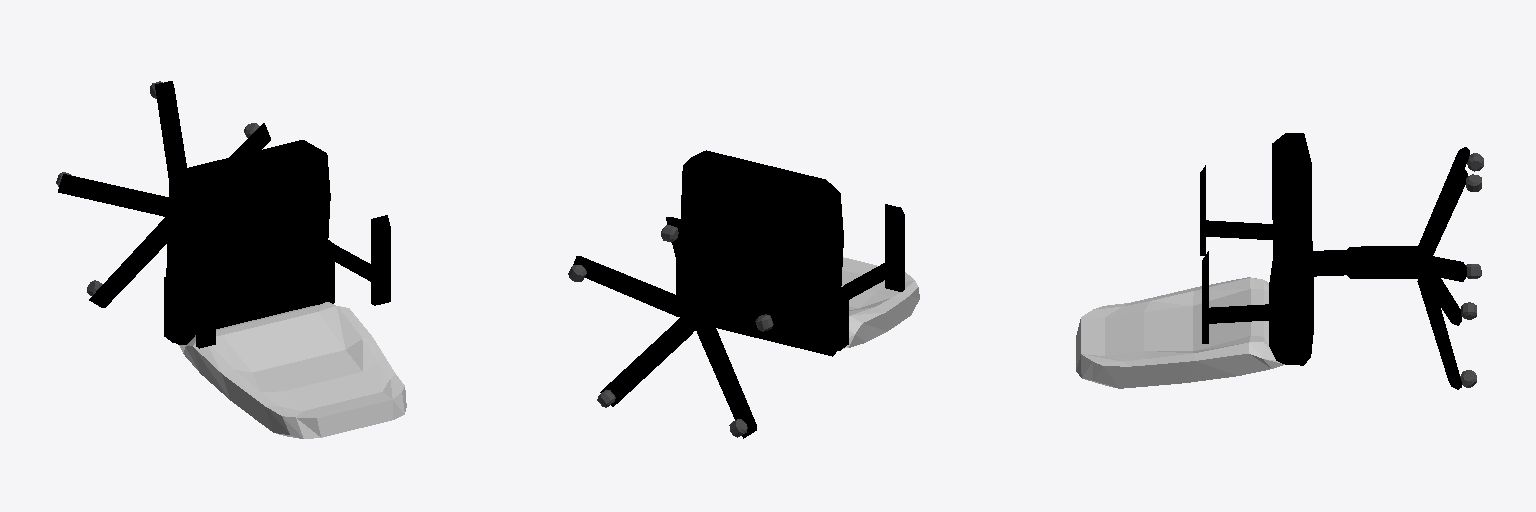
Rendered from MaxSpeedThrone 1.obj.
3 renders of one model, left to right at view 1: azimuth 30°, elevation 25°; view 2: azimuth 150°, elevation 25°; view 3: azimuth 270°, elevation 25°, orthographic.
Parts seen in each view (by area): view 1: Seat_Cube.002, ChairBack_Cube.004, LeftArmChair_Cube.001, RightArmChair_Cube.003, Leg5_Cylinder.002, Leg4_Cylinder.004, Leg1_Cylinder.001, Leg2_Cylinder.005; view 2: Seat_Cube.002, ChairBack_Cube.004, LeftArmChair_Cube.001, Leg2_Cylinder.005, Leg3_Cylinder.003, Leg4_Cylinder.004, Leg1_Cylinder.001, Leg5_Cylinder.002; view 3: ChairBack_Cube.004, Seat_Cube.002, RightArmChair_Cube.003, LeftArmChair_Cube.001, Leg3_Cylinder.003, Leg1_Cylinder.001, Leg2_Cylinder.005, Leg4_Cylinder.004.
Part boxes in pixels (bbox=[...]): Seat_Cube.002: bbox=[166, 140, 330, 344]; ChairBack_Cube.004: bbox=[179, 302, 406, 438]; LeftArmChair_Cube.001: bbox=[164, 258, 215, 348]; RightArmChair_Cube.003: bbox=[327, 215, 390, 305]; Leg5_Cylinder.002: bbox=[58, 174, 168, 216]; Leg4_Cylinder.004: bbox=[89, 217, 167, 307]; Leg1_Cylinder.001: bbox=[155, 81, 186, 182]; Leg2_Cylinder.005: bbox=[229, 123, 270, 157]; Seat_Cube.002: bbox=[679, 150, 843, 356]; ChairBack_Cube.004: bbox=[841, 257, 919, 348]; LeftArmChair_Cube.001: bbox=[836, 204, 904, 350]; Leg2_Cylinder.005: bbox=[573, 256, 685, 316]; Leg3_Cylinder.003: bbox=[600, 318, 693, 406]; Leg4_Cylinder.004: bbox=[697, 325, 756, 438]; Leg1_Cylinder.001: bbox=[666, 217, 706, 308]; Leg5_Cylinder.002: bbox=[702, 305, 782, 326]; ChairBack_Cube.004: bbox=[1076, 277, 1284, 388]; Seat_Cube.002: bbox=[1269, 133, 1433, 365]; RightArmChair_Cube.003: bbox=[1202, 251, 1302, 363]; LeftArmChair_Cube.001: bbox=[1200, 165, 1272, 255]; Leg3_Cylinder.003: bbox=[1417, 275, 1461, 389]; Leg1_Cylinder.001: bbox=[1418, 147, 1469, 254]; Leg2_Cylinder.005: bbox=[1417, 255, 1466, 281]; Leg4_Cylinder.004: bbox=[1433, 277, 1461, 325].
Size of the model in its own units: 1.44 by 1.37 by 2.4.